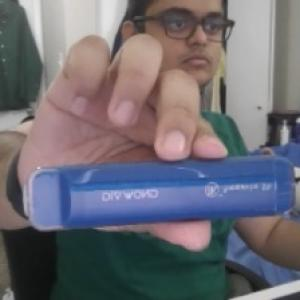Diamond-E-Ciggirate: (19, 151, 300, 238)
